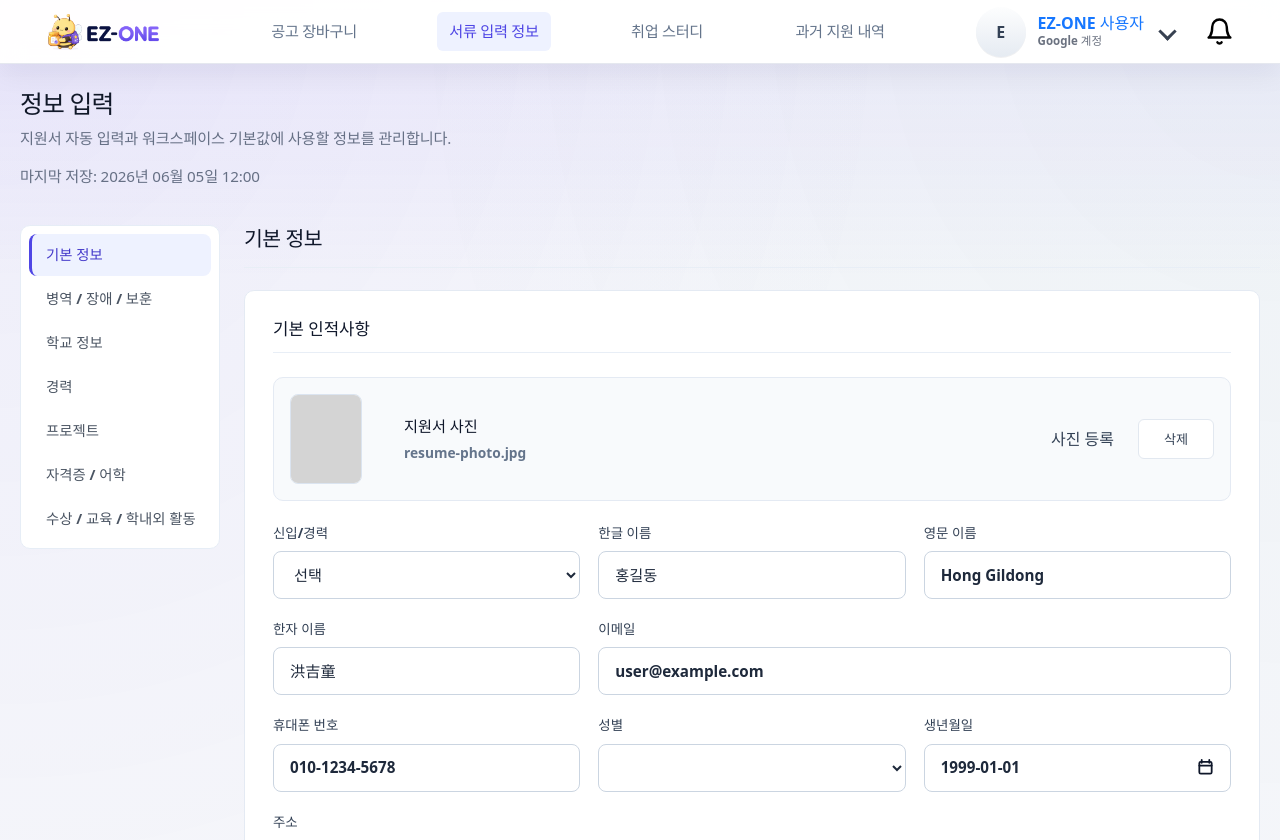
DocumentProfilePage › PROFILE-011: restores legacy military title and summary into editable fields
This screenshot has width=1280, height=840.
Click the button with test id "section-military" at (120, 299), box [29,278,211,320]
(page scrolled)
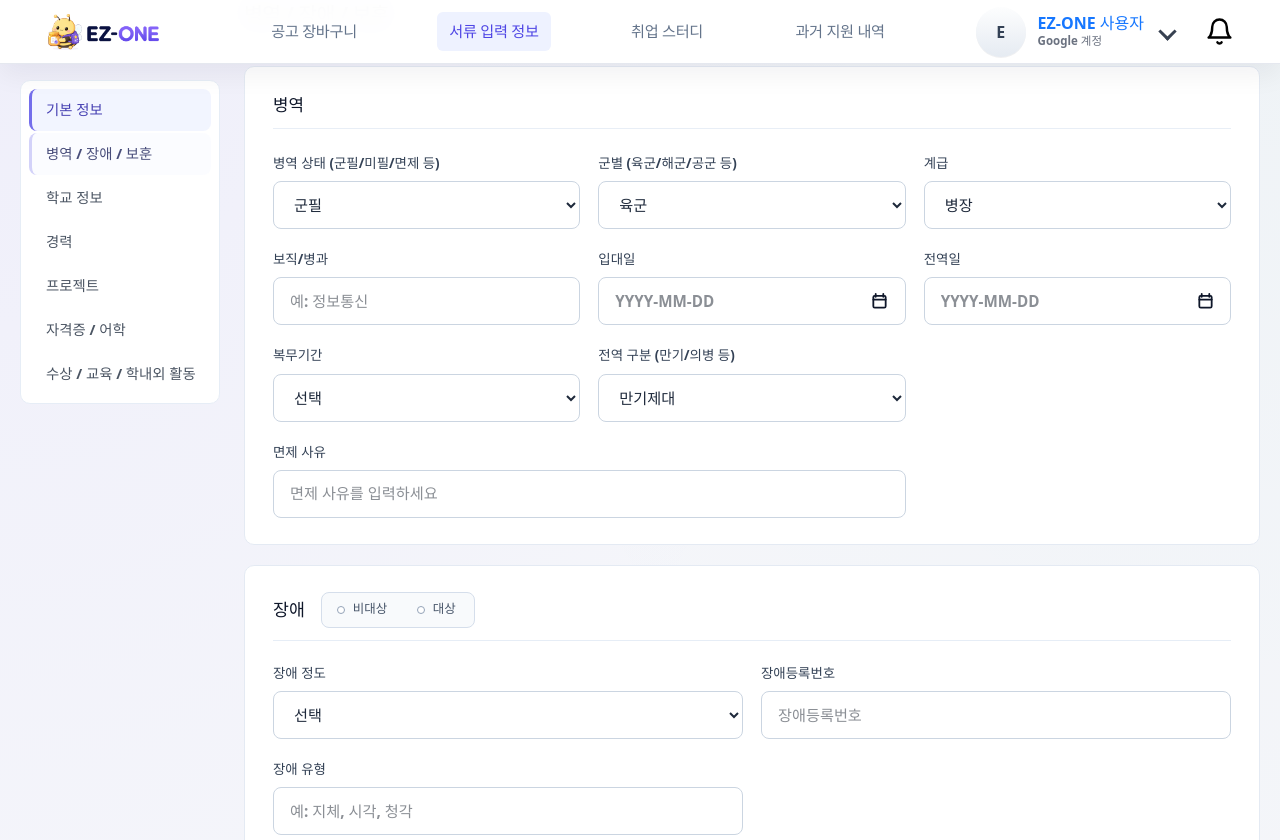
Now the dropdown with test id "military-status" shows "군필", box [273,181,580,229]
Now the dropdown with test id "military-branch" shows "육군", box [598,181,906,229]
Now the dropdown with test id "military-rank" shows "병장", box [924,181,1231,229]
